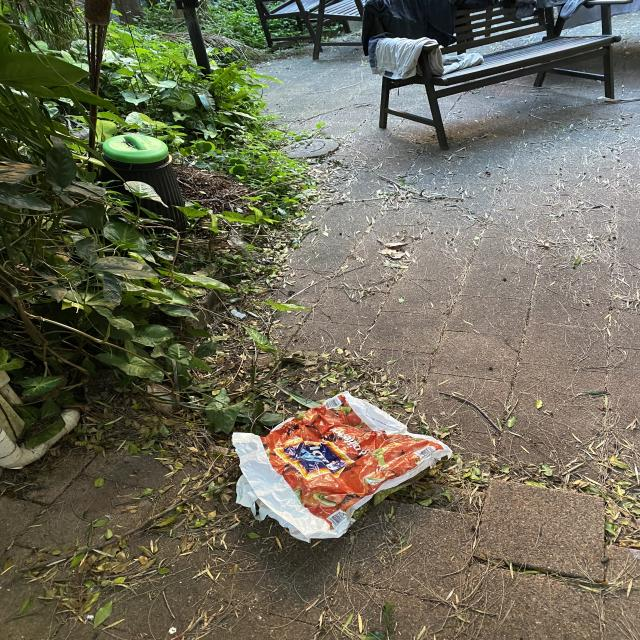bag: (225, 382, 460, 548), (379, 376, 381, 387)
container: (93, 130, 195, 222)
